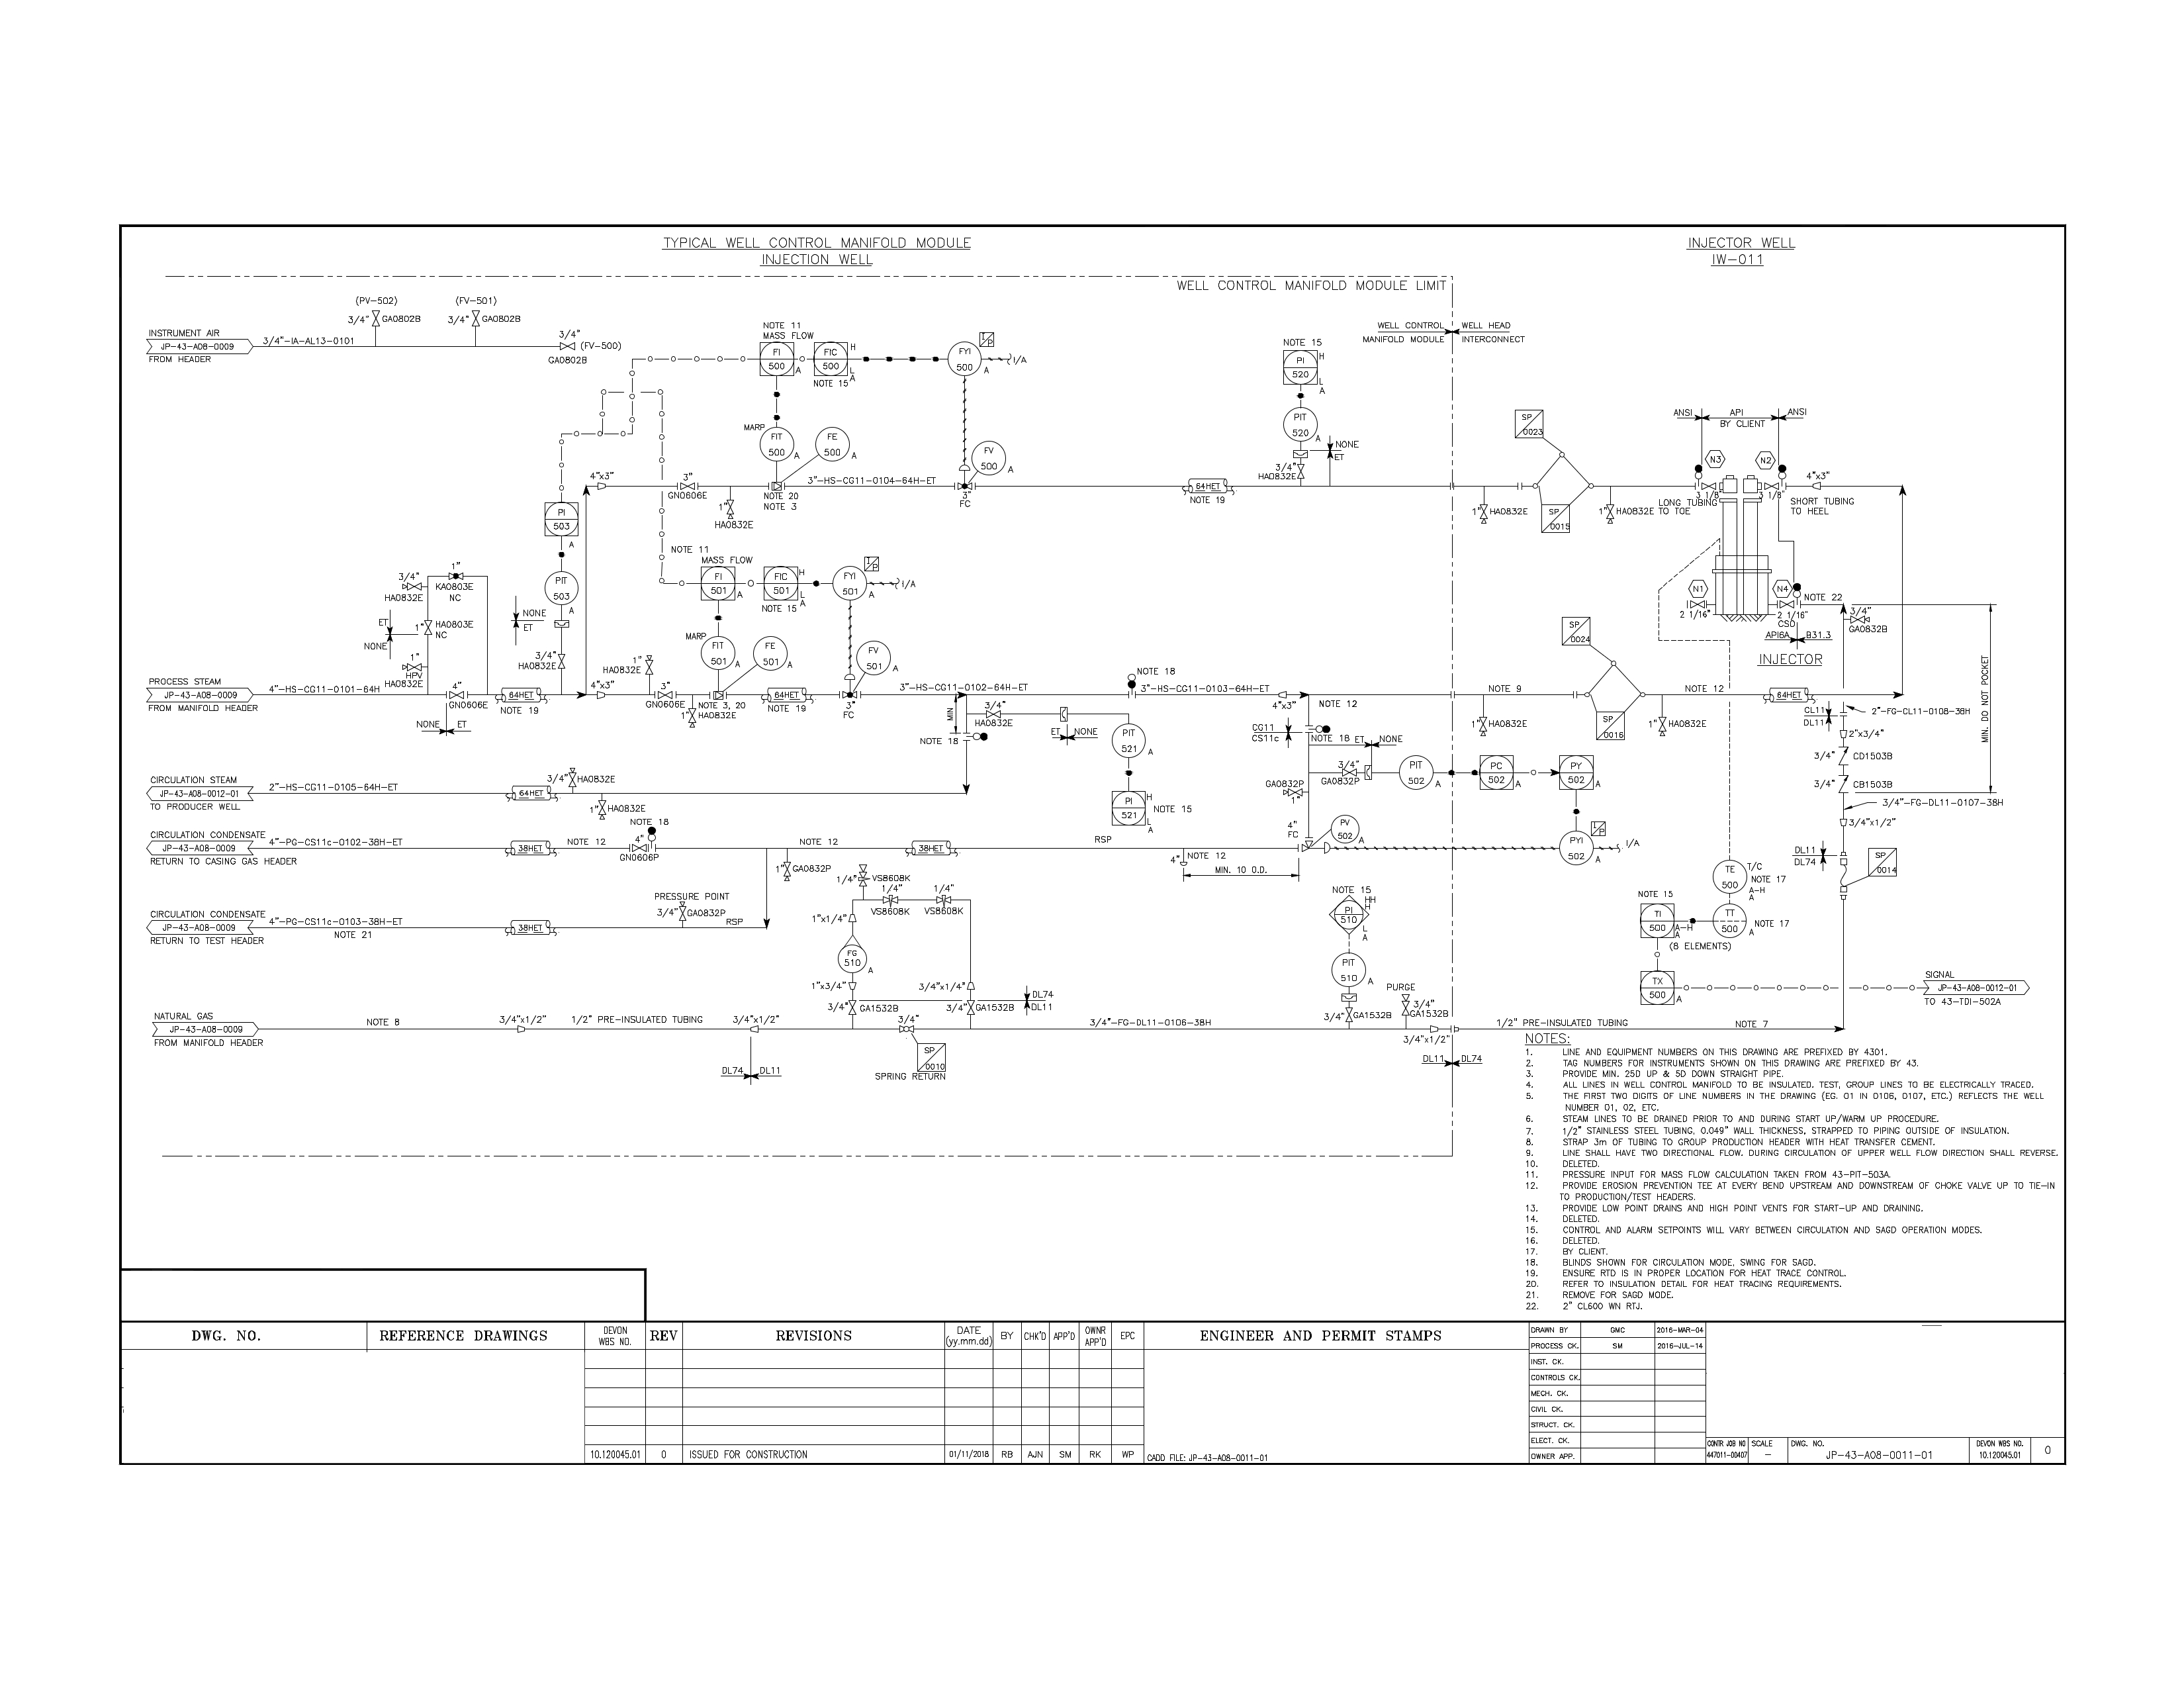Inline Instrument: (541, 569, 580, 608), (831, 564, 870, 603), (854, 637, 893, 676), (1282, 406, 1321, 445), (1110, 722, 1149, 761), (1556, 828, 1595, 867), (1397, 754, 1436, 793), (1711, 901, 1750, 940), (970, 438, 1009, 475), (1711, 856, 1748, 895), (1330, 950, 1367, 989), (752, 635, 789, 672), (814, 426, 851, 463), (759, 426, 796, 463), (700, 633, 737, 668), (947, 340, 982, 376), (1330, 812, 1360, 846)
Panel Instrument: (541, 498, 581, 539), (1106, 787, 1147, 828), (1477, 750, 1517, 791), (1636, 968, 1677, 1009), (1640, 899, 1681, 940), (760, 564, 801, 603), (812, 337, 851, 378), (757, 340, 798, 379), (1282, 346, 1322, 385), (1556, 752, 1597, 791), (700, 564, 739, 603)
